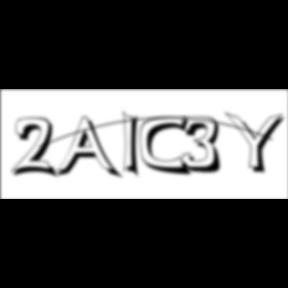2: (12, 117, 62, 181)
3: (182, 116, 228, 176)
A: (55, 116, 124, 182)
C: (140, 115, 195, 178)
l: (124, 108, 146, 182)
